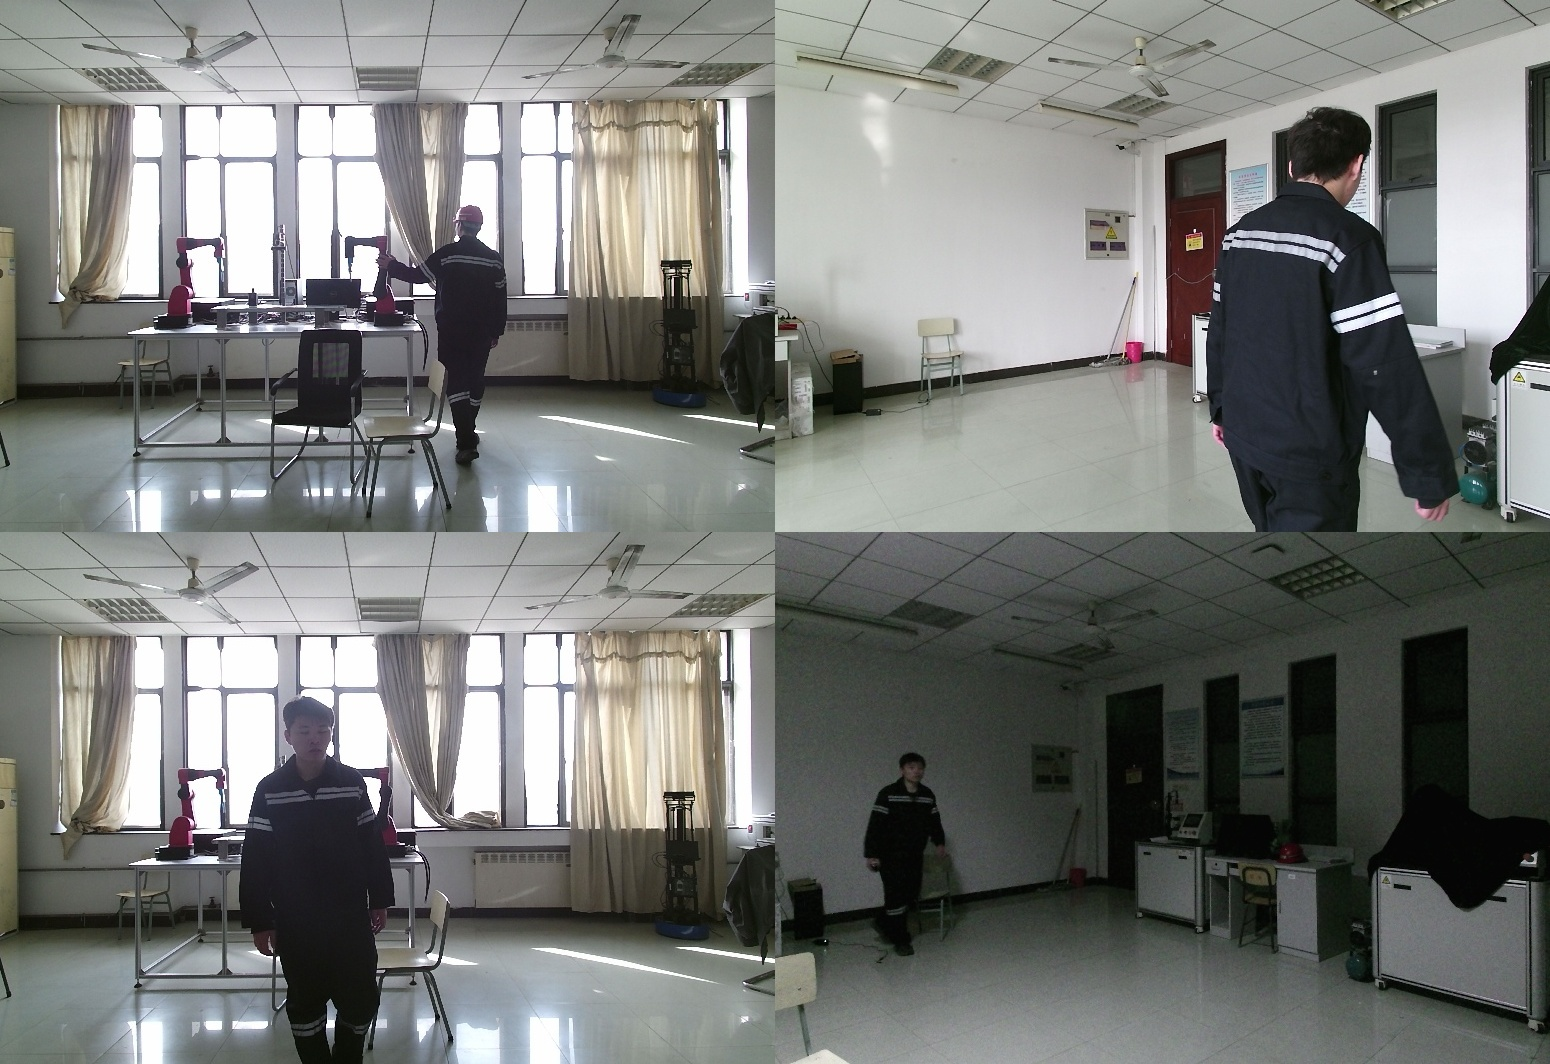person: (1215, 106, 1489, 532), (244, 700, 401, 1064), (379, 204, 520, 471), (854, 755, 939, 967)
